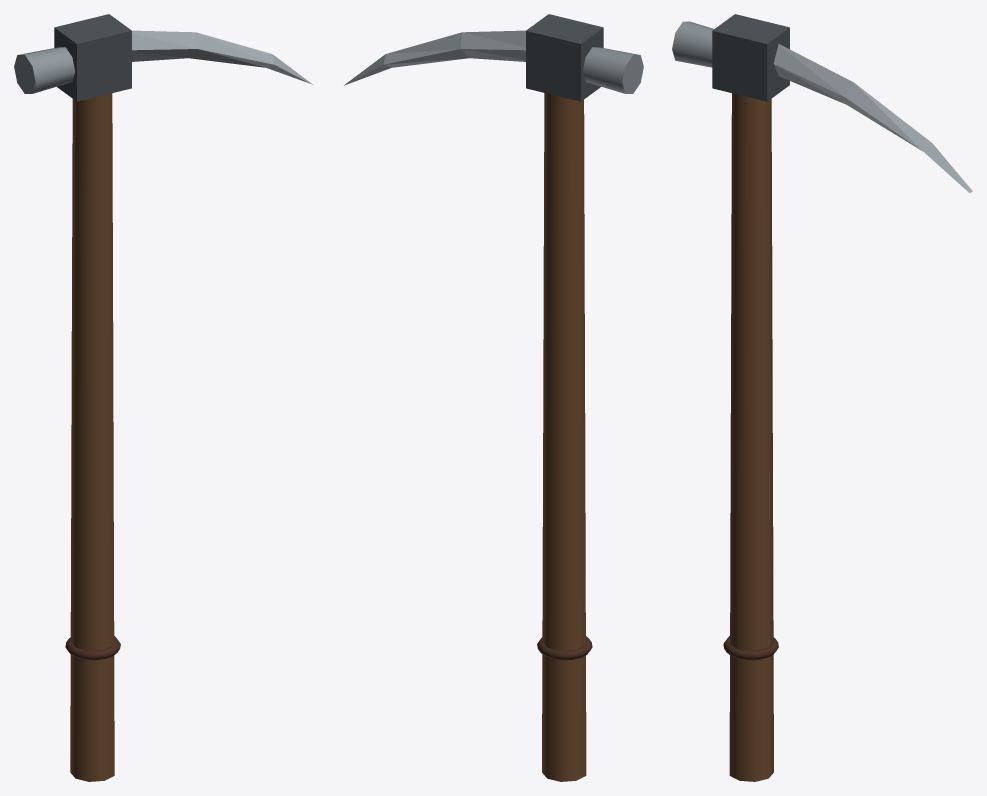
File: war-pick.glb
3 views of the same model, side by side, from view 1: azimuth 30°, elevation 25°; view 2: azimuth 150°, elevation 25°; view 3: azimuth 330°, elevation 25° (orthographic).
Visible parts, largest first — view 1: war-pick-haft, war-pick-head, war-pick-beak, war-pick-back, war-pick-grip-wrap; view 2: war-pick-haft, war-pick-head, war-pick-beak, war-pick-back, war-pick-grip-wrap; view 3: war-pick-haft, war-pick-head, war-pick-beak, war-pick-back, war-pick-grip-wrap.
Part boxes in pixels (x1,y1,x2,y2): war-pick-haft: (70,93,114,781); war-pick-head: (54,14,131,101); war-pick-beak: (132,30,313,85); war-pick-back: (14,47,75,93); war-pick-grip-wrap: (65,636,120,660); war-pick-haft: (542,93,586,781); war-pick-head: (526,14,603,101); war-pick-beak: (344,30,525,85); war-pick-back: (582,47,643,93); war-pick-grip-wrap: (537,636,592,660); war-pick-haft: (729,93,773,781); war-pick-head: (712,14,789,101); war-pick-beak: (773,44,972,192); war-pick-back: (672,21,713,67); war-pick-grip-wrap: (723,636,778,660).
Size of the model in its own units: 0.2038 by 0.5017 by 0.0342.
